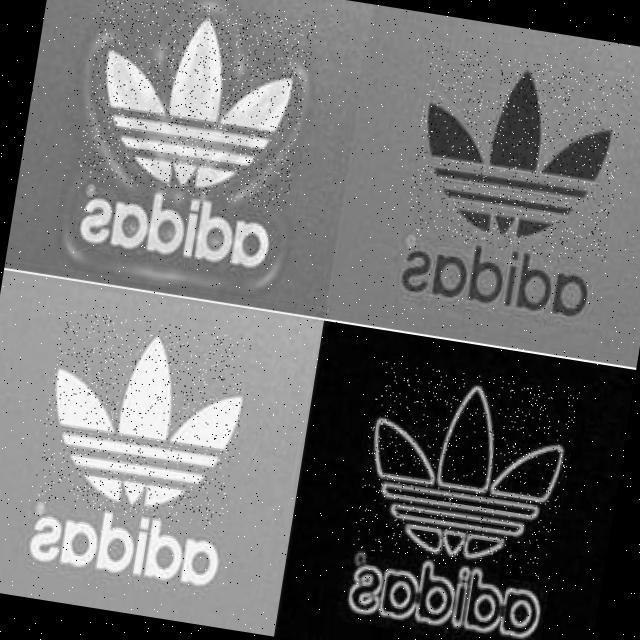Adidas: (75, 0, 316, 211), (404, 46, 635, 266), (352, 360, 580, 579), (33, 308, 254, 530)
